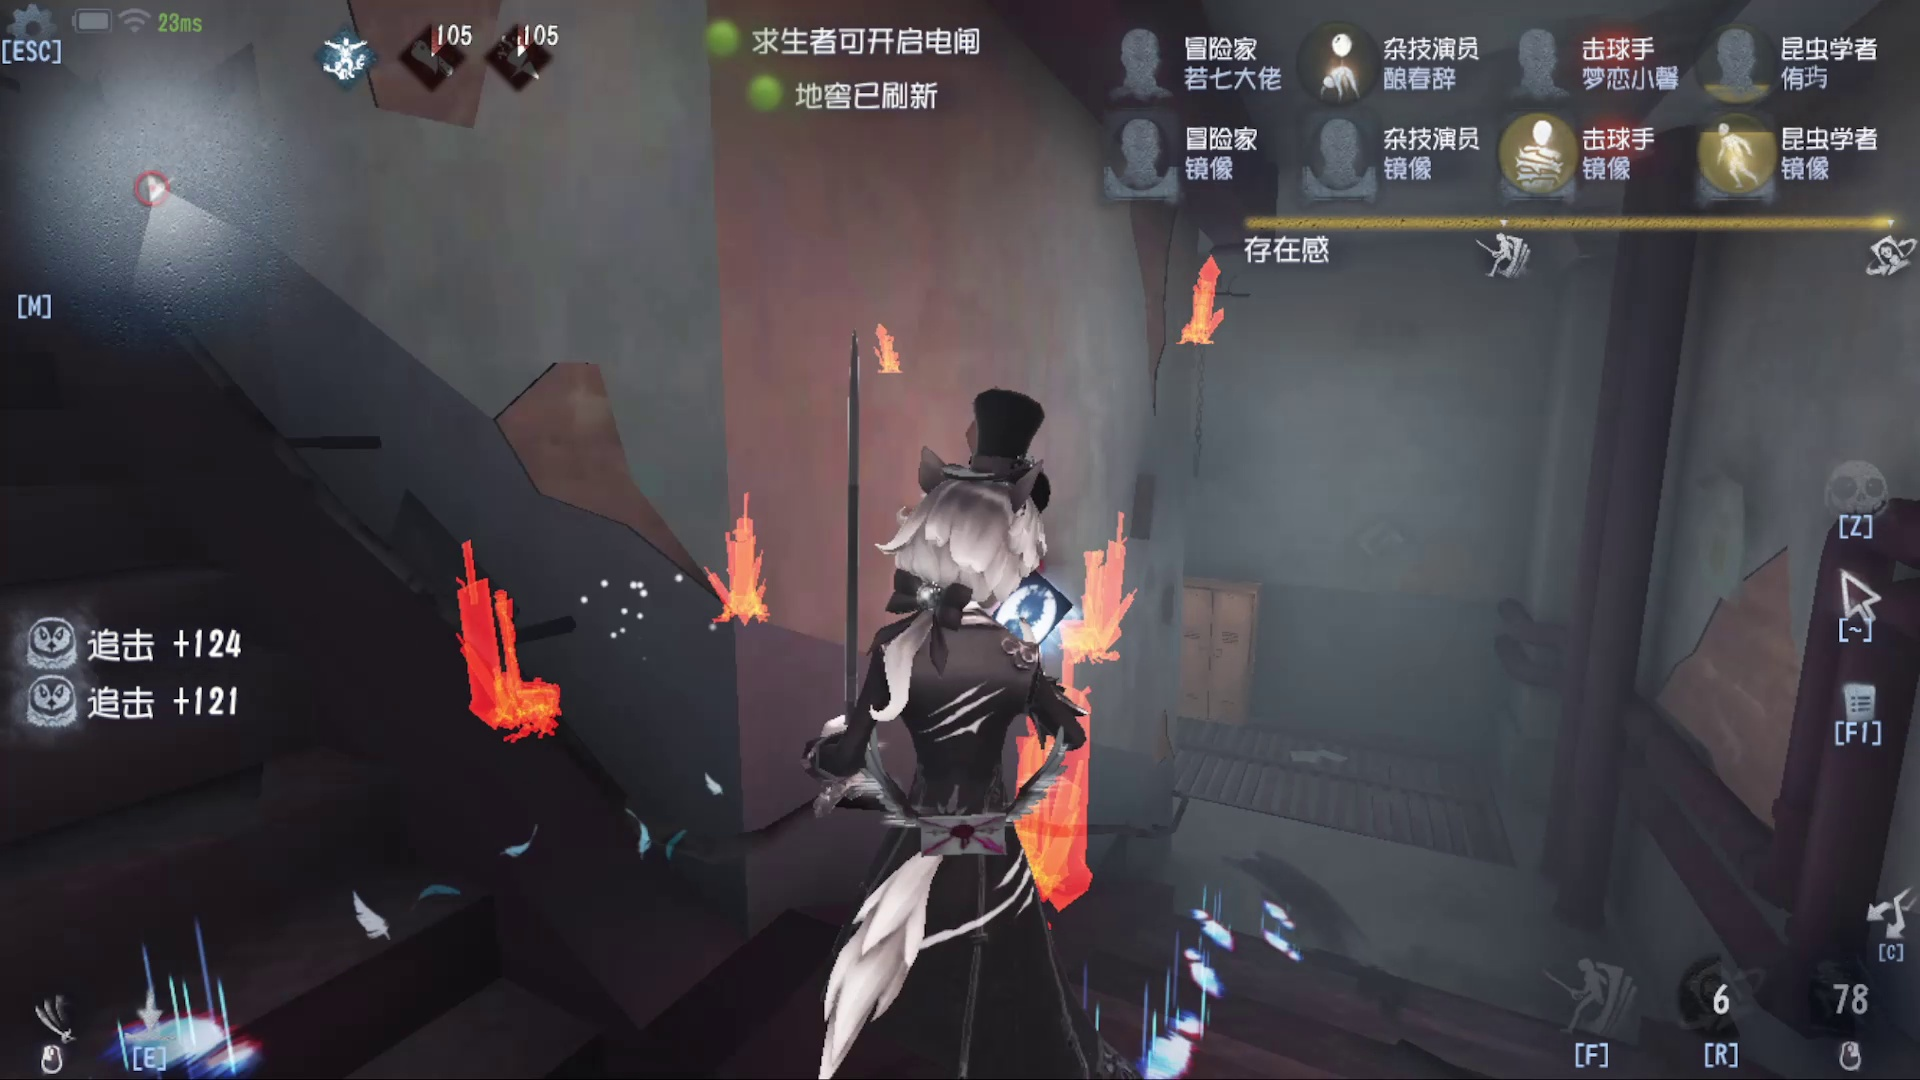狂欢之椅: (396, 531, 620, 771)
